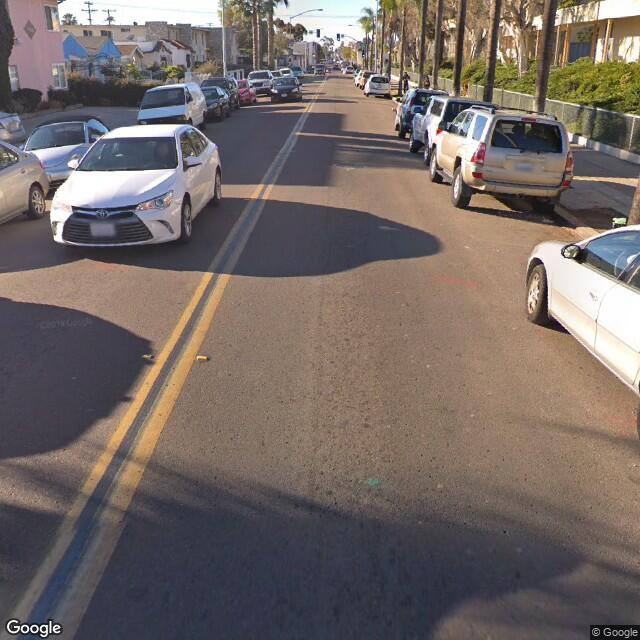road line: (15, 395, 147, 626)
